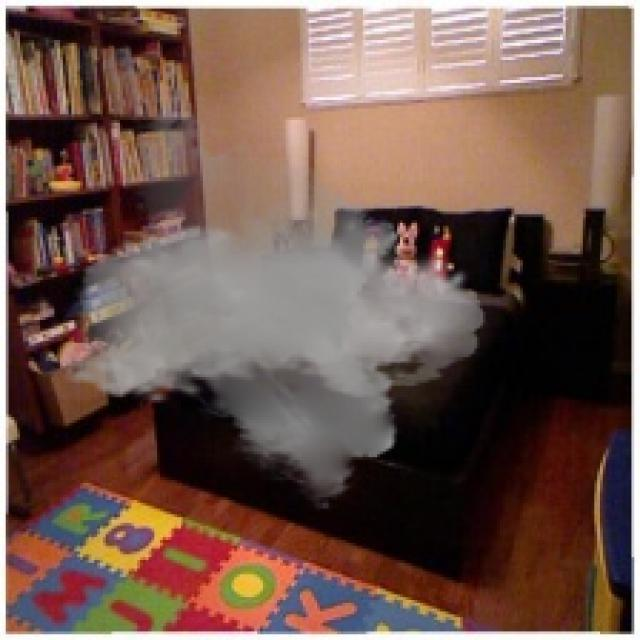Smoke: (60, 91, 486, 512)
